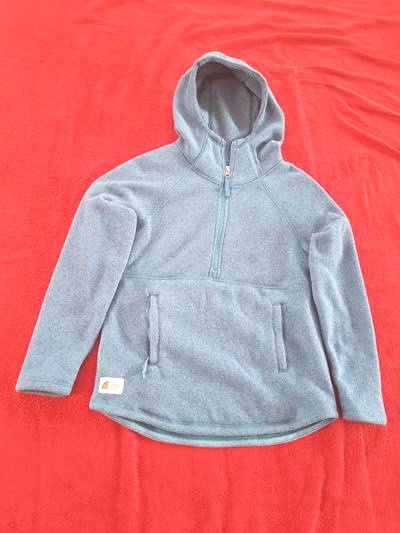Hoodie: (11, 40, 398, 434)
